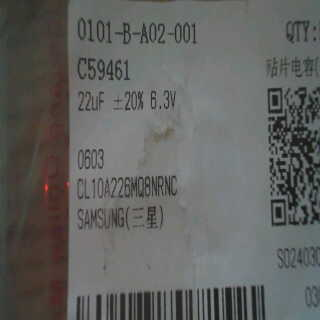22uF: (77, 88, 106, 116)
